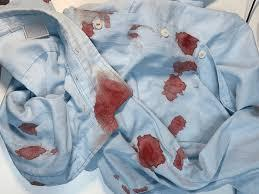blood: (97, 81, 126, 132), (136, 134, 165, 167), (176, 31, 198, 56), (164, 74, 185, 100), (168, 115, 186, 137), (15, 146, 47, 158), (174, 61, 197, 73), (121, 183, 148, 193), (18, 123, 38, 136), (175, 148, 184, 171), (81, 22, 94, 37), (129, 25, 139, 40), (104, 15, 110, 28)
